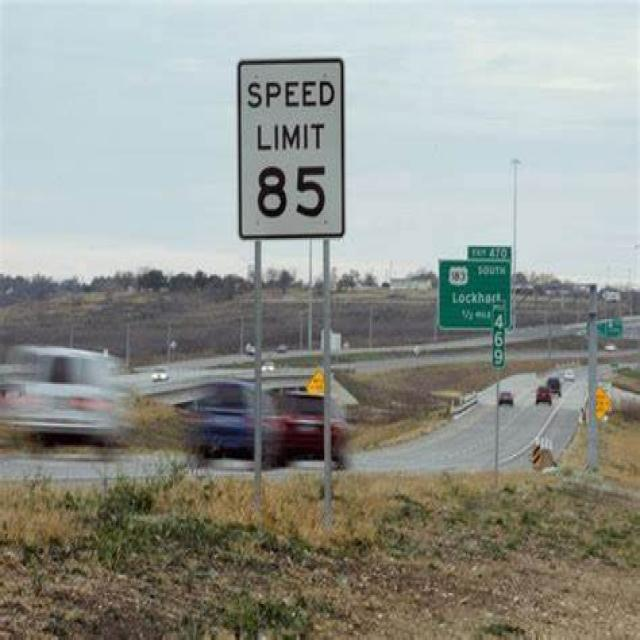speedLimit85: (236, 54, 347, 247)
